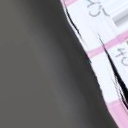crackTip: (97, 32, 128, 111)
